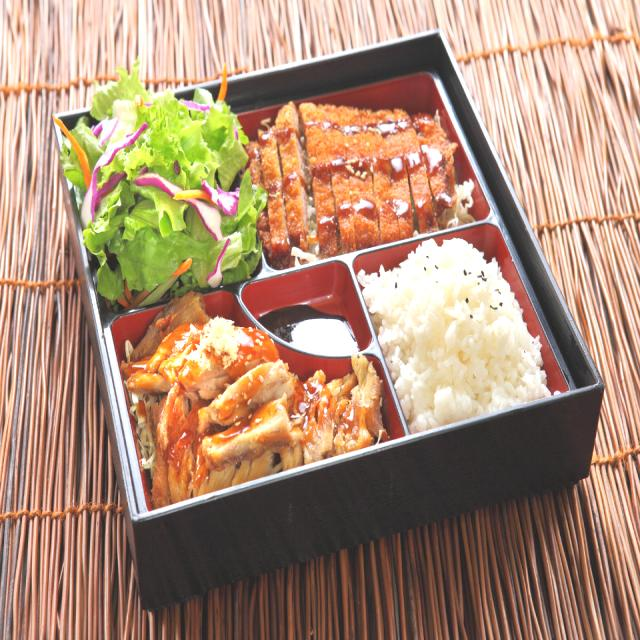Fushan-lettuce: (96, 112, 231, 262)
meat: (252, 128, 460, 212)
rice: (410, 266, 526, 390)
